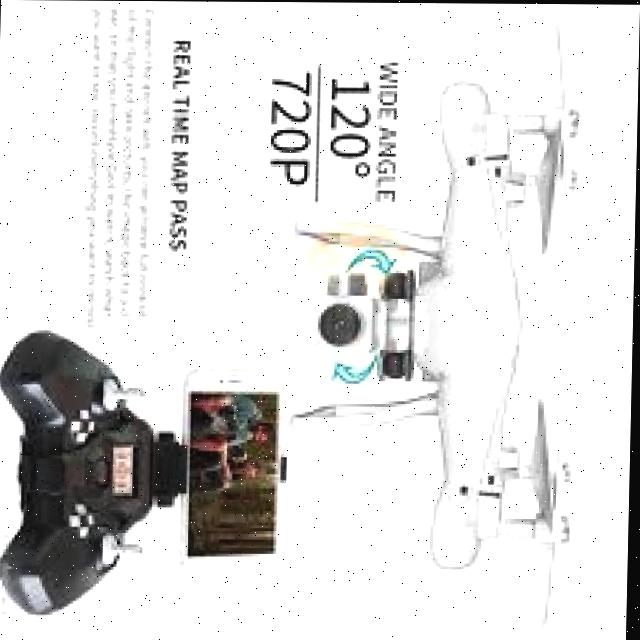drone: (279, 16, 598, 609)
